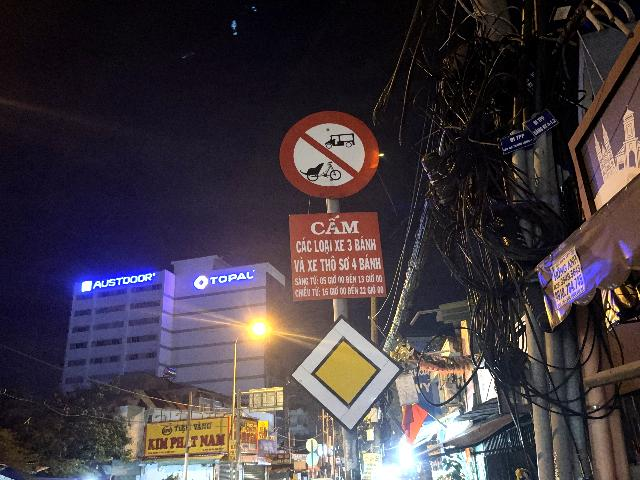bat-dau-duong-uu-tien: (288, 314, 405, 435)
cam-xe-3-banh-xe-tho-so-4-banh: (279, 110, 379, 199)
